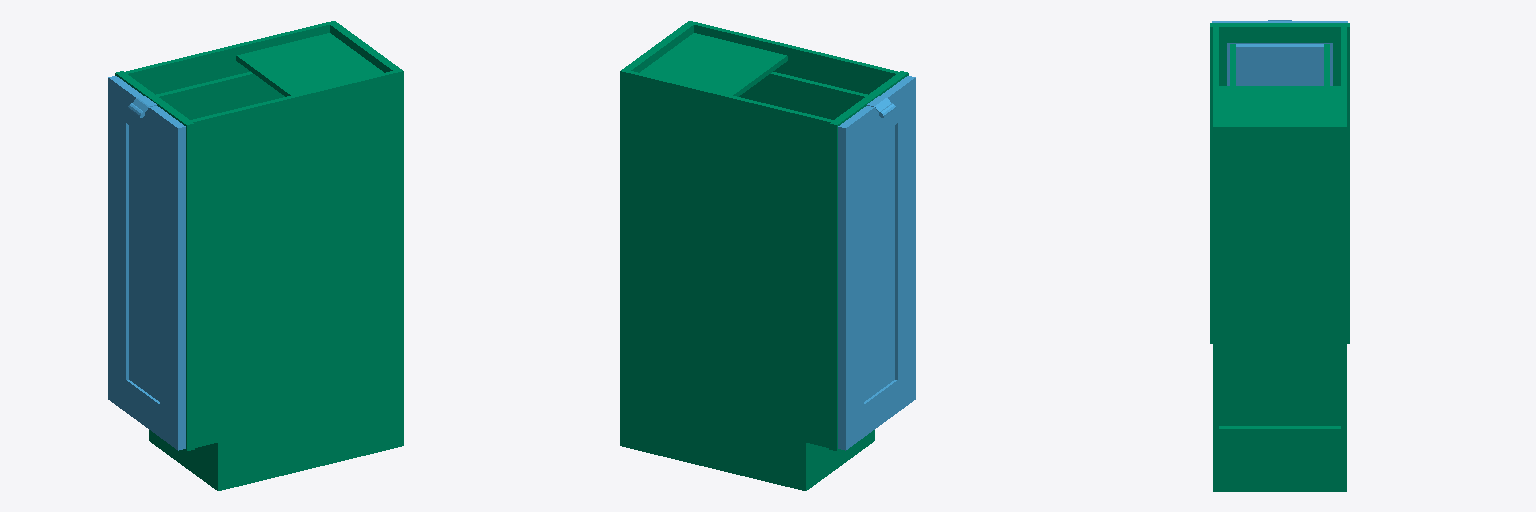
robot.urdf — partnet_170be0087472182bc59350d819542ec7:
<?xml version="1.0" ?>
<robot name="partnet_170be0087472182bc59350d819542ec7">
	<link name="base"/>
	<link name="link_0">
		<visual name="cabinet_door_surface-5">
			<origin xyz="0.27225355931424955 0.6403099894523621 -0.517653087270307"/>
			<geometry>
				<mesh filename="textured_objs/original-48.obj"/>
			</geometry>
		</visual>
		<visual name="cabinet_door_surface-5">
			<origin xyz="0.27225355931424955 0.6403099894523621 -0.517653087270307"/>
			<geometry>
				<mesh filename="textured_objs/original-45.obj"/>
			</geometry>
		</visual>
		<visual name="cabinet_door_surface-5">
			<origin xyz="0.27225355931424955 0.6403099894523621 -0.517653087270307"/>
			<geometry>
				<mesh filename="textured_objs/original-43.obj"/>
			</geometry>
		</visual>
		<visual name="cabinet_door_surface-5">
			<origin xyz="0.27225355931424955 0.6403099894523621 -0.517653087270307"/>
			<geometry>
				<mesh filename="textured_objs/original-42.obj"/>
			</geometry>
		</visual>
		<visual name="cabinet_door_surface-5">
			<origin xyz="0.27225355931424955 0.6403099894523621 -0.517653087270307"/>
			<geometry>
				<mesh filename="textured_objs/original-44.obj"/>
			</geometry>
		</visual>
		<visual name="cabinet_door_surface-5">
			<origin xyz="0.27225355931424955 0.6403099894523621 -0.517653087270307"/>
			<geometry>
				<mesh filename="textured_objs/original-29.obj"/>
			</geometry>
		</visual>
		<visual name="cabinet_door_surface-5">
			<origin xyz="0.27225355931424955 0.6403099894523621 -0.517653087270307"/>
			<geometry>
				<mesh filename="textured_objs/original-47.obj"/>
			</geometry>
		</visual>
		<visual name="handle-6">
			<origin xyz="0.27225355931424955 0.6403099894523621 -0.517653087270307"/>
			<geometry>
				<mesh filename="textured_objs/original-49.obj"/>
			</geometry>
		</visual>
		<collision>
			<origin xyz="0.27225355931424955 0.6403099894523621 -0.517653087270307"/>
			<geometry>
				<mesh filename="textured_objs/original-48.obj"/>
			</geometry>
		</collision>
		<collision>
			<origin xyz="0.27225355931424955 0.6403099894523621 -0.517653087270307"/>
			<geometry>
				<mesh filename="textured_objs/original-45.obj"/>
			</geometry>
		</collision>
		<collision>
			<origin xyz="0.27225355931424955 0.6403099894523621 -0.517653087270307"/>
			<geometry>
				<mesh filename="textured_objs/original-43.obj"/>
			</geometry>
		</collision>
		<collision>
			<origin xyz="0.27225355931424955 0.6403099894523621 -0.517653087270307"/>
			<geometry>
				<mesh filename="textured_objs/original-42.obj"/>
			</geometry>
		</collision>
		<collision>
			<origin xyz="0.27225355931424955 0.6403099894523621 -0.517653087270307"/>
			<geometry>
				<mesh filename="textured_objs/original-44.obj"/>
			</geometry>
		</collision>
		<collision>
			<origin xyz="0.27225355931424955 0.6403099894523621 -0.517653087270307"/>
			<geometry>
				<mesh filename="textured_objs/original-29.obj"/>
			</geometry>
		</collision>
		<collision>
			<origin xyz="0.27225355931424955 0.6403099894523621 -0.517653087270307"/>
			<geometry>
				<mesh filename="textured_objs/original-47.obj"/>
			</geometry>
		</collision>
		<collision>
			<origin xyz="0.27225355931424955 0.6403099894523621 -0.517653087270307"/>
			<geometry>
				<mesh filename="textured_objs/original-49.obj"/>
			</geometry>
		</collision>
	</link>
	<joint name="joint_0" type="revolute">
		<origin xyz="-0.27225355931424955 -0.6403099894523621 0.517653087270307"/>
		<axis xyz="0 -0.9999999999999999 0"/>
		<child link="link_0"/>
		<parent link="link_1"/>
		<limit lower="0.0" upper="1.5707963267948966"/>
	</joint>
	<link name="link_1">
		<visual name="shelf-13">
			<origin xyz="0 0 0"/>
			<geometry>
				<mesh filename="textured_objs/original-23.obj"/>
			</geometry>
		</visual>
		<visual name="shelf-14">
			<origin xyz="0 0 0"/>
			<geometry>
				<mesh filename="textured_objs/original-34.obj"/>
			</geometry>
		</visual>
		<visual name="shelf-15">
			<origin xyz="0 0 0"/>
			<geometry>
				<mesh filename="textured_objs/original-38.obj"/>
			</geometry>
		</visual>
		<visual name="base_side_panel-8">
			<origin xyz="0 0 0"/>
			<geometry>
				<mesh filename="textured_objs/original-16.obj"/>
			</geometry>
		</visual>
		<visual name="base_side_panel-9">
			<origin xyz="0 0 0"/>
			<geometry>
				<mesh filename="textured_objs/original-18.obj"/>
			</geometry>
		</visual>
		<visual name="base_side_panel-10">
			<origin xyz="0 0 0"/>
			<geometry>
				<mesh filename="textured_objs/original-17.obj"/>
			</geometry>
		</visual>
		<visual name="base_side_panel-11">
			<origin xyz="0 0 0"/>
			<geometry>
				<mesh filename="textured_objs/original-12.obj"/>
			</geometry>
		</visual>
		<visual name="vertical_side_panel-16">
			<origin xyz="0 0 0"/>
			<geometry>
				<mesh filename="textured_objs/original-15.obj"/>
			</geometry>
		</visual>
		<visual name="vertical_side_panel-16">
			<origin xyz="0 0 0"/>
			<geometry>
				<mesh filename="textured_objs/original-14.obj"/>
			</geometry>
		</visual>
		<visual name="vertical_side_panel-17">
			<origin xyz="0 0 0"/>
			<geometry>
				<mesh filename="textured_objs/original-11.obj"/>
			</geometry>
		</visual>
		<visual name="vertical_side_panel-17">
			<origin xyz="0 0 0"/>
			<geometry>
				<mesh filename="textured_objs/original-10.obj"/>
			</geometry>
		</visual>
		<visual name="back_panel-18">
			<origin xyz="0 0 0"/>
			<geometry>
				<mesh filename="textured_objs/original-30.obj"/>
			</geometry>
		</visual>
		<visual name="back_panel-18">
			<origin xyz="0 0 0"/>
			<geometry>
				<mesh filename="textured_objs/original-5.obj"/>
			</geometry>
		</visual>
		<visual name="bottom_panel-19">
			<origin xyz="0 0 0"/>
			<geometry>
				<mesh filename="textured_objs/original-2.obj"/>
			</geometry>
		</visual>
		<visual name="frame_vertical_bar-24">
			<origin xyz="0 0 0"/>
			<geometry>
				<mesh filename="textured_objs/original-26.obj"/>
			</geometry>
		</visual>
		<visual name="frame_vertical_bar-25">
			<origin xyz="0 0 0"/>
			<geometry>
				<mesh filename="textured_objs/original-25.obj"/>
			</geometry>
		</visual>
		<visual name="frame_vertical_bar-26">
			<origin xyz="0 0 0"/>
			<geometry>
				<mesh filename="textured_objs/original-24.obj"/>
			</geometry>
		</visual>
		<visual name="frame_vertical_bar-27">
			<origin xyz="0 0 0"/>
			<geometry>
				<mesh filename="textured_objs/original-27.obj"/>
			</geometry>
		</visual>
		<visual name="frame_vertical_bar-28">
			<origin xyz="0 0 0"/>
			<geometry>
				<mesh filename="textured_objs/original-3.obj"/>
			</geometry>
		</visual>
		<visual name="frame_vertical_bar-29">
			<origin xyz="0 0 0"/>
			<geometry>
				<mesh filename="textured_objs/original-7.obj"/>
			</geometry>
		</visual>
		<visual name="frame_horizontal_bar-30">
			<origin xyz="0 0 0"/>
			<geometry>
				<mesh filename="textured_objs/original-40.obj"/>
			</geometry>
		</visual>
		<visual name="frame_horizontal_bar-31">
			<origin xyz="0 0 0"/>
			<geometry>
				<mesh filename="textured_objs/original-8.obj"/>
			</geometry>
		</visual>
		<visual name="frame_horizontal_bar-32">
			<origin xyz="0 0 0"/>
			<geometry>
				<mesh filename="textured_objs/original-6.obj"/>
			</geometry>
		</visual>
		<visual name="frame_horizontal_bar-33">
			<origin xyz="0 0 0"/>
			<geometry>
				<mesh filename="textured_objs/original-4.obj"/>
			</geometry>
		</visual>
		<visual name="frame_horizontal_bar-34">
			<origin xyz="0 0 0"/>
			<geometry>
				<mesh filename="textured_objs/original-28.obj"/>
			</geometry>
		</visual>
		<visual name="frame_horizontal_bar-35">
			<origin xyz="0 0 0"/>
			<geometry>
				<mesh filename="textured_objs/original-32.obj"/>
			</geometry>
		</visual>
		<visual name="frame_horizontal_bar-36">
			<origin xyz="0 0 0"/>
			<geometry>
				<mesh filename="textured_objs/original-22.obj"/>
			</geometry>
		</visual>
		<visual name="frame_horizontal_bar-37">
			<origin xyz="0 0 0"/>
			<geometry>
				<mesh filename="textured_objs/original-36.obj"/>
			</geometry>
		</visual>
		<visual name="frame_horizontal_bar-38">
			<origin xyz="0 0 0"/>
			<geometry>
				<mesh filename="textured_objs/original-19.obj"/>
			</geometry>
		</visual>
		<visual name="frame_horizontal_bar-39">
			<origin xyz="0 0 0"/>
			<geometry>
				<mesh filename="textured_objs/original-39.obj"/>
			</geometry>
		</visual>
		<visual name="frame_horizontal_bar-40">
			<origin xyz="0 0 0"/>
			<geometry>
				<mesh filename="textured_objs/original-33.obj"/>
			</geometry>
		</visual>
		<visual name="frame_horizontal_bar-41">
			<origin xyz="0 0 0"/>
			<geometry>
				<mesh filename="textured_objs/original-37.obj"/>
			</geometry>
		</visual>
		<visual name="other_leaf-43">
			<origin xyz="0 0 0"/>
			<geometry>
				<mesh filename="textured_objs/original-50.obj"/>
			</geometry>
		</visual>
		<collision>
			<origin xyz="0 0 0"/>
			<geometry>
				<mesh filename="textured_objs/original-23.obj"/>
			</geometry>
		</collision>
		<collision>
			<origin xyz="0 0 0"/>
			<geometry>
				<mesh filename="textured_objs/original-34.obj"/>
			</geometry>
		</collision>
		<collision>
			<origin xyz="0 0 0"/>
			<geometry>
				<mesh filename="textured_objs/original-38.obj"/>
			</geometry>
		</collision>
		<collision>
			<origin xyz="0 0 0"/>
			<geometry>
				<mesh filename="textured_objs/original-16.obj"/>
			</geometry>
		</collision>
		<collision>
			<origin xyz="0 0 0"/>
			<geometry>
				<mesh filename="textured_objs/original-18.obj"/>
			</geometry>
		</collision>
		<collision>
			<origin xyz="0 0 0"/>
			<geometry>
				<mesh filename="textured_objs/original-17.obj"/>
			</geometry>
		</collision>
		<collision>
			<origin xyz="0 0 0"/>
			<geometry>
				<mesh filename="textured_objs/original-12.obj"/>
			</geometry>
		</collision>
		<collision>
			<origin xyz="0 0 0"/>
			<geometry>
				<mesh filename="textured_objs/original-15.obj"/>
			</geometry>
		</collision>
		<collision>
			<origin xyz="0 0 0"/>
			<geometry>
				<mesh filename="textured_objs/original-14.obj"/>
			</geometry>
		</collision>
		<collision>
			<origin xyz="0 0 0"/>
			<geometry>
				<mesh filename="textured_objs/original-11.obj"/>
			</geometry>
		</collision>
		<collision>
			<origin xyz="0 0 0"/>
			<geometry>
				<mesh filename="textured_objs/original-10.obj"/>
			</geometry>
		</collision>
		<collision>
			<origin xyz="0 0 0"/>
			<geometry>
				<mesh filename="textured_objs/original-30.obj"/>
			</geometry>
		</collision>
		<collision>
			<origin xyz="0 0 0"/>
			<geometry>
				<mesh filename="textured_objs/original-5.obj"/>
			</geometry>
		</collision>
		<collision>
			<origin xyz="0 0 0"/>
			<geometry>
				<mesh filename="textured_objs/original-2.obj"/>
			</geometry>
		</collision>
		<collision>
			<origin xyz="0 0 0"/>
			<geometry>
				<mesh filename="textured_objs/original-26.obj"/>
			</geometry>
		</collision>
		<collision>
			<origin xyz="0 0 0"/>
			<geometry>
				<mesh filename="textured_objs/original-25.obj"/>
			</geometry>
		</collision>
		<collision>
			<origin xyz="0 0 0"/>
			<geometry>
				<mesh filename="textured_objs/original-24.obj"/>
			</geometry>
		</collision>
		<collision>
			<origin xyz="0 0 0"/>
			<geometry>
				<mesh filename="textured_objs/original-27.obj"/>
			</geometry>
		</collision>
		<collision>
			<origin xyz="0 0 0"/>
			<geometry>
				<mesh filename="textured_objs/original-3.obj"/>
			</geometry>
		</collision>
		<collision>
			<origin xyz="0 0 0"/>
			<geometry>
				<mesh filename="textured_objs/original-7.obj"/>
			</geometry>
		</collision>
		<collision>
			<origin xyz="0 0 0"/>
			<geometry>
				<mesh filename="textured_objs/original-40.obj"/>
			</geometry>
		</collision>
		<collision>
			<origin xyz="0 0 0"/>
			<geometry>
				<mesh filename="textured_objs/original-8.obj"/>
			</geometry>
		</collision>
		<collision>
			<origin xyz="0 0 0"/>
			<geometry>
				<mesh filename="textured_objs/original-6.obj"/>
			</geometry>
		</collision>
		<collision>
			<origin xyz="0 0 0"/>
			<geometry>
				<mesh filename="textured_objs/original-4.obj"/>
			</geometry>
		</collision>
		<collision>
			<origin xyz="0 0 0"/>
			<geometry>
				<mesh filename="textured_objs/original-28.obj"/>
			</geometry>
		</collision>
		<collision>
			<origin xyz="0 0 0"/>
			<geometry>
				<mesh filename="textured_objs/original-32.obj"/>
			</geometry>
		</collision>
		<collision>
			<origin xyz="0 0 0"/>
			<geometry>
				<mesh filename="textured_objs/original-22.obj"/>
			</geometry>
		</collision>
		<collision>
			<origin xyz="0 0 0"/>
			<geometry>
				<mesh filename="textured_objs/original-36.obj"/>
			</geometry>
		</collision>
		<collision>
			<origin xyz="0 0 0"/>
			<geometry>
				<mesh filename="textured_objs/original-19.obj"/>
			</geometry>
		</collision>
		<collision>
			<origin xyz="0 0 0"/>
			<geometry>
				<mesh filename="textured_objs/original-39.obj"/>
			</geometry>
		</collision>
		<collision>
			<origin xyz="0 0 0"/>
			<geometry>
				<mesh filename="textured_objs/original-33.obj"/>
			</geometry>
		</collision>
		<collision>
			<origin xyz="0 0 0"/>
			<geometry>
				<mesh filename="textured_objs/original-37.obj"/>
			</geometry>
		</collision>
		<collision>
			<origin xyz="0 0 0"/>
			<geometry>
				<mesh filename="textured_objs/original-50.obj"/>
			</geometry>
		</collision>
	</link>
	<joint name="joint_1" type="fixed">
		<origin rpy="1.570796326794897 0 -1.570796326794897" xyz="0 0 0"/>
		<child link="link_1"/>
		<parent link="base"/>
	</joint>
</robot>

--- Render facts (derived) ---
The picture shows the robot from 3 angles, left to right: view 1: azimuth 30°, elevation 25°; view 2: azimuth 150°, elevation 25°; view 3: azimuth 270°, elevation 25°; orthographic projection.
Model partnet_170be0087472182bc59350d819542ec7 with 3 links and 2 joints (1 revolute, 1 fixed), rooted at base, posed all joints at 0.
Visible links, largest first — view 1: link_1, link_0; view 2: link_1, link_0; view 3: link_1, link_0.
Boxes of the visible links, x1,y1,x2,y2 form: link_1: (115,21,403,490); link_0: (108,76,185,450); link_1: (620,21,908,490); link_0: (838,76,915,450); link_1: (1210,23,1349,491); link_0: (1212,20,1347,85).
Bounding box of the posed robot: 1.1 × 0.5857 × 1.68 m (x, y, z).
41 mesh visuals loaded from 41 distinct referenced files (41 OBJ).
